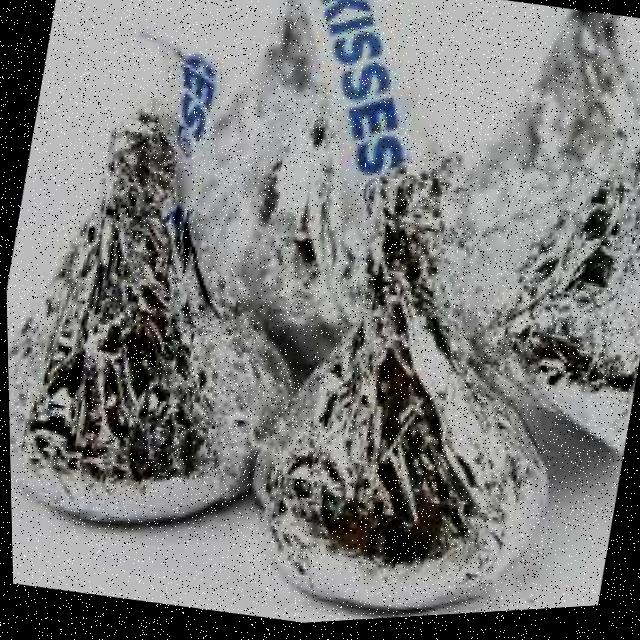kisses: (222, 145, 608, 630), (1, 69, 346, 564), (156, 0, 471, 411), (381, 0, 640, 417), (475, 63, 640, 472)
